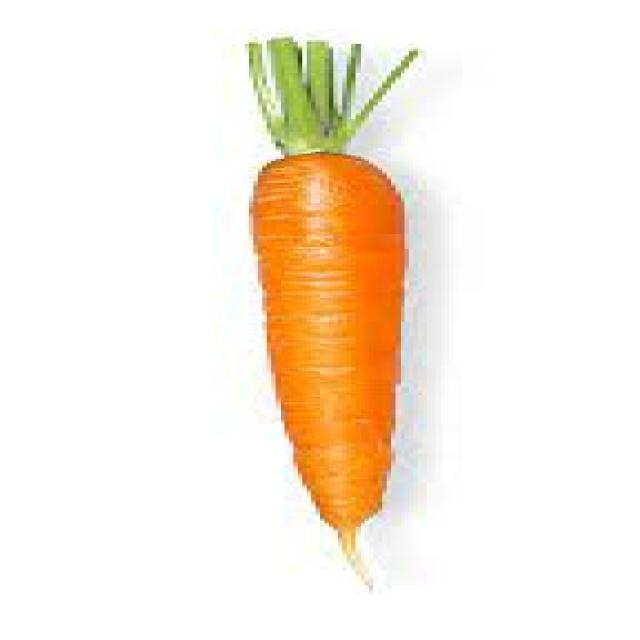carrot: (249, 38, 420, 553)
